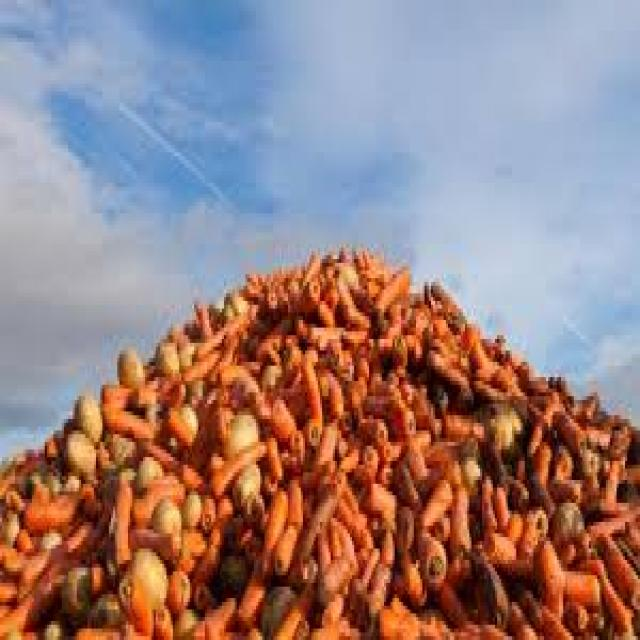food_waste: (69, 431, 620, 603), (234, 306, 481, 637)
